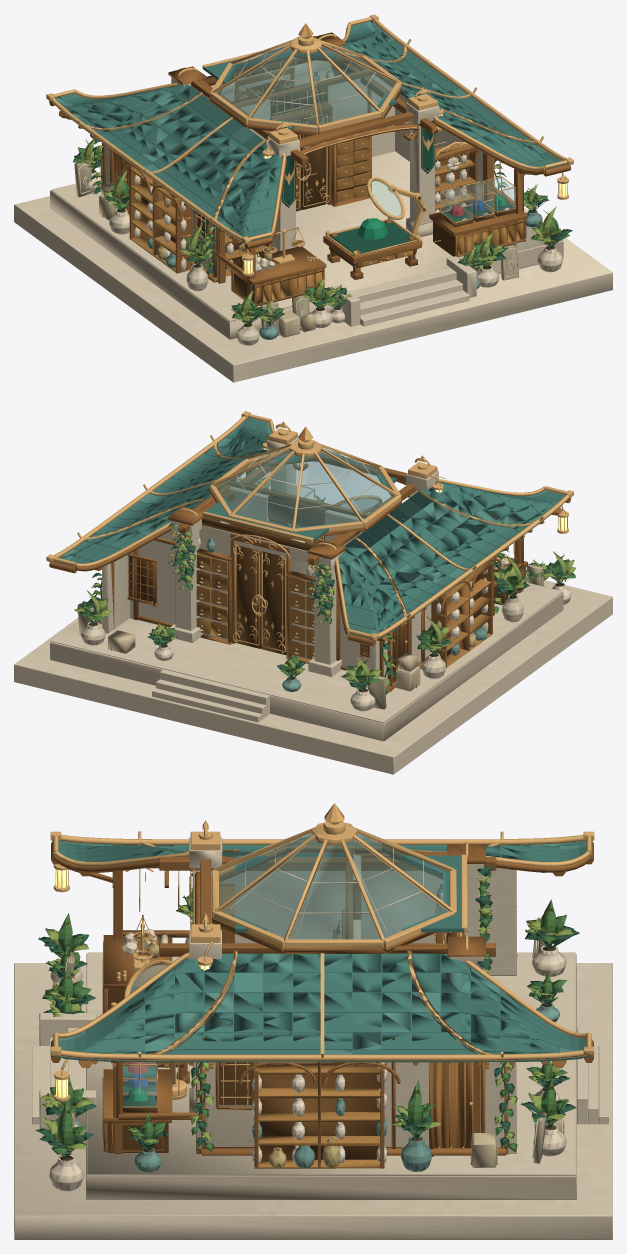
Rendered from appraisal-lod1-1ee1de8334c6.glb.
3 views of the same model, one above another, from view 1: azimuth 30°, elevation 25°; view 2: azimuth 150°, elevation 25°; view 3: azimuth 270°, elevation 25° (orthographic). The views are drawn at different scales.
Visible parts, largest first — view 1: SM_APP_MAT_APP_WarmIvory.021, SM_APP_MAT_APP_TealRoof.021, SM_APP_MAT_APP_HoneyTimber.021, SM_APP_MAT_APP_BrassGold_APP_GrandDoorHinge_1.021, SM_APP_MAT_APP_SourceTintCrownGlass, SM_APP_MAT_APP_DrawerWood.021, SM_APP_MAT_APP_Walnut_APP_GrandDoorHinge_1.021, SM_APP_MAT_APP_Limestone.021, SM_APP_MAT_APP_LeafLime.021, SM_APP_MAT_APP_TealRoofAlt.021, SM_APP_MAT_APP_EmeraldVelvet.021, SM_APP_MAT_APP_DisplayGlass.021 (+8 smaller); view 2: SM_APP_MAT_APP_WarmIvory.021, SM_APP_MAT_APP_TealRoof.021, SM_APP_MAT_APP_BrassGold_APP_GrandDoorHinge_1.021, SM_APP_MAT_APP_HoneyTimber.021, SM_APP_MAT_APP_SourceTintCrownGlass, SM_APP_MAT_APP_Walnut_APP_GrandDoorHinge_1.021, SM_APP_MAT_APP_Limestone.021, SM_APP_MAT_APP_DrawerWood.021, SM_APP_MAT_APP_TealRoofAlt.021, SM_APP_MAT_APP_LeafLime.021, SM_APP_MAT_APP_LeafDark.021, SM_APP_MAT_APP_LeafJade.021 (+4 smaller); view 3: SM_APP_MAT_APP_WarmIvory.021, SM_APP_MAT_APP_TealRoof.021, SM_APP_MAT_APP_HoneyTimber.021, SM_APP_MAT_APP_BrassGold_APP_GrandDoorHinge_1.021, SM_APP_MAT_APP_SourceTintCrownGlass, SM_APP_MAT_APP_Limestone.021, SM_APP_MAT_APP_Walnut_APP_GrandDoorHinge_1.021, SM_APP_MAT_APP_DrawerWood.021, SM_APP_MAT_APP_LeafJade.021, SM_APP_MAT_APP_TealRoofAlt.021, SM_APP_MAT_APP_LeafDark.021, SM_APP_MAT_APP_LeafLime.021 (+7 smaller).
Part boxes in pixels (bbox=[...]): SM_APP_MAT_APP_WarmIvory.021: bbox=[14, 44, 612, 382]; SM_APP_MAT_APP_TealRoof.021: bbox=[55, 21, 566, 243]; SM_APP_MAT_APP_HoneyTimber.021: bbox=[49, 27, 571, 307]; SM_APP_MAT_APP_BrassGold_APP_GrandDoorHinge_1.021: bbox=[46, 14, 573, 276]; SM_APP_MAT_APP_SourceTintCrownGlass: bbox=[216, 44, 394, 125]; SM_APP_MAT_APP_DrawerWood.021: bbox=[131, 136, 523, 303]; SM_APP_MAT_APP_Walnut_APP_GrandDoorHinge_1.021: bbox=[141, 58, 516, 302]; SM_APP_MAT_APP_Limestone.021: bbox=[50, 191, 563, 339]; SM_APP_MAT_APP_LeafLime.021: bbox=[79, 139, 560, 324]; SM_APP_MAT_APP_TealRoofAlt.021: bbox=[55, 21, 545, 232]; SM_APP_MAT_APP_EmeraldVelvet.021: bbox=[282, 121, 513, 253]; SM_APP_MAT_APP_DisplayGlass.021: bbox=[441, 177, 515, 221]; SM_APP_MAT_APP_WarmIvory.021: bbox=[14, 437, 612, 774]; SM_APP_MAT_APP_TealRoof.021: bbox=[53, 418, 568, 640]; SM_APP_MAT_APP_BrassGold_APP_GrandDoorHinge_1.021: bbox=[46, 411, 573, 688]; SM_APP_MAT_APP_HoneyTimber.021: bbox=[49, 423, 571, 693]; SM_APP_MAT_APP_SourceTintCrownGlass: bbox=[216, 448, 394, 528]; SM_APP_MAT_APP_Walnut_APP_GrandDoorHinge_1.021: bbox=[101, 460, 524, 660]; SM_APP_MAT_APP_Limestone.021: bbox=[50, 592, 563, 741]; SM_APP_MAT_APP_DrawerWood.021: bbox=[196, 554, 492, 667]; SM_APP_MAT_APP_TealRoofAlt.021: bbox=[63, 422, 547, 634]; SM_APP_MAT_APP_LeafLime.021: bbox=[74, 478, 575, 688]; SM_APP_MAT_APP_LeafDark.021: bbox=[80, 478, 573, 690]; SM_APP_MAT_APP_LeafJade.021: bbox=[80, 498, 575, 694]; SM_APP_MAT_APP_WarmIvory.021: bbox=[14, 833, 612, 1239]; SM_APP_MAT_APP_TealRoof.021: bbox=[56, 840, 588, 1062]; SM_APP_MAT_APP_HoneyTimber.021: bbox=[51, 841, 593, 1168]; SM_APP_MAT_APP_BrassGold_APP_GrandDoorHinge_1.021: bbox=[50, 803, 594, 1161]; SM_APP_MAT_APP_SourceTintCrownGlass: bbox=[219, 833, 445, 939]; SM_APP_MAT_APP_Limestone.021: bbox=[86, 954, 576, 1199]; SM_APP_MAT_APP_Walnut_APP_GrandDoorHinge_1.021: bbox=[107, 880, 507, 1159]; SM_APP_MAT_APP_DrawerWood.021: bbox=[111, 886, 488, 1168]; SM_APP_MAT_APP_LeafJade.021: bbox=[42, 884, 568, 1158]; SM_APP_MAT_APP_TealRoofAlt.021: bbox=[58, 842, 586, 1054]; SM_APP_MAT_APP_LeafDark.021: bbox=[36, 866, 579, 1158]; SM_APP_MAT_APP_LeafLime.021: bbox=[40, 876, 572, 1152].
Bounding box in the file's own units: 10 × 5.72 × 10.
29 materials, 6 textured.
